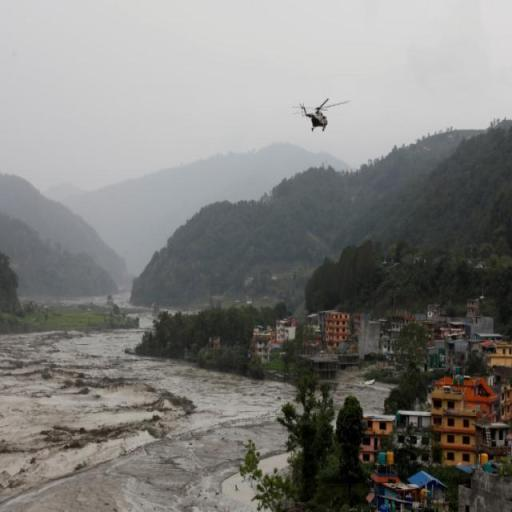flood: (0, 330, 295, 512), (329, 365, 393, 411)
house: (434, 375, 482, 472), (358, 416, 396, 470), (397, 409, 431, 452), (437, 317, 474, 353), (324, 310, 351, 348), (250, 326, 276, 364), (483, 338, 512, 369), (274, 318, 296, 342), (388, 310, 408, 330)
